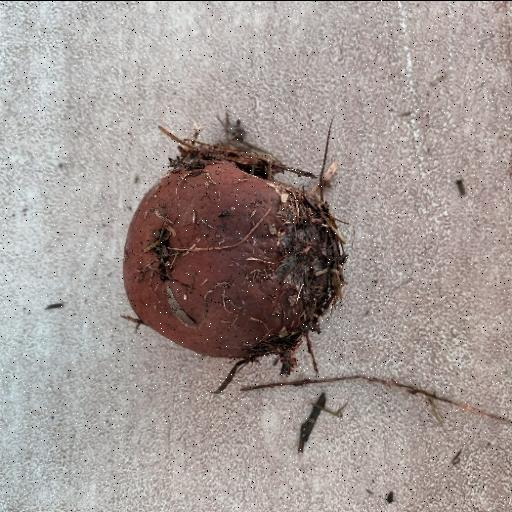Waste: (120, 119, 350, 393)
